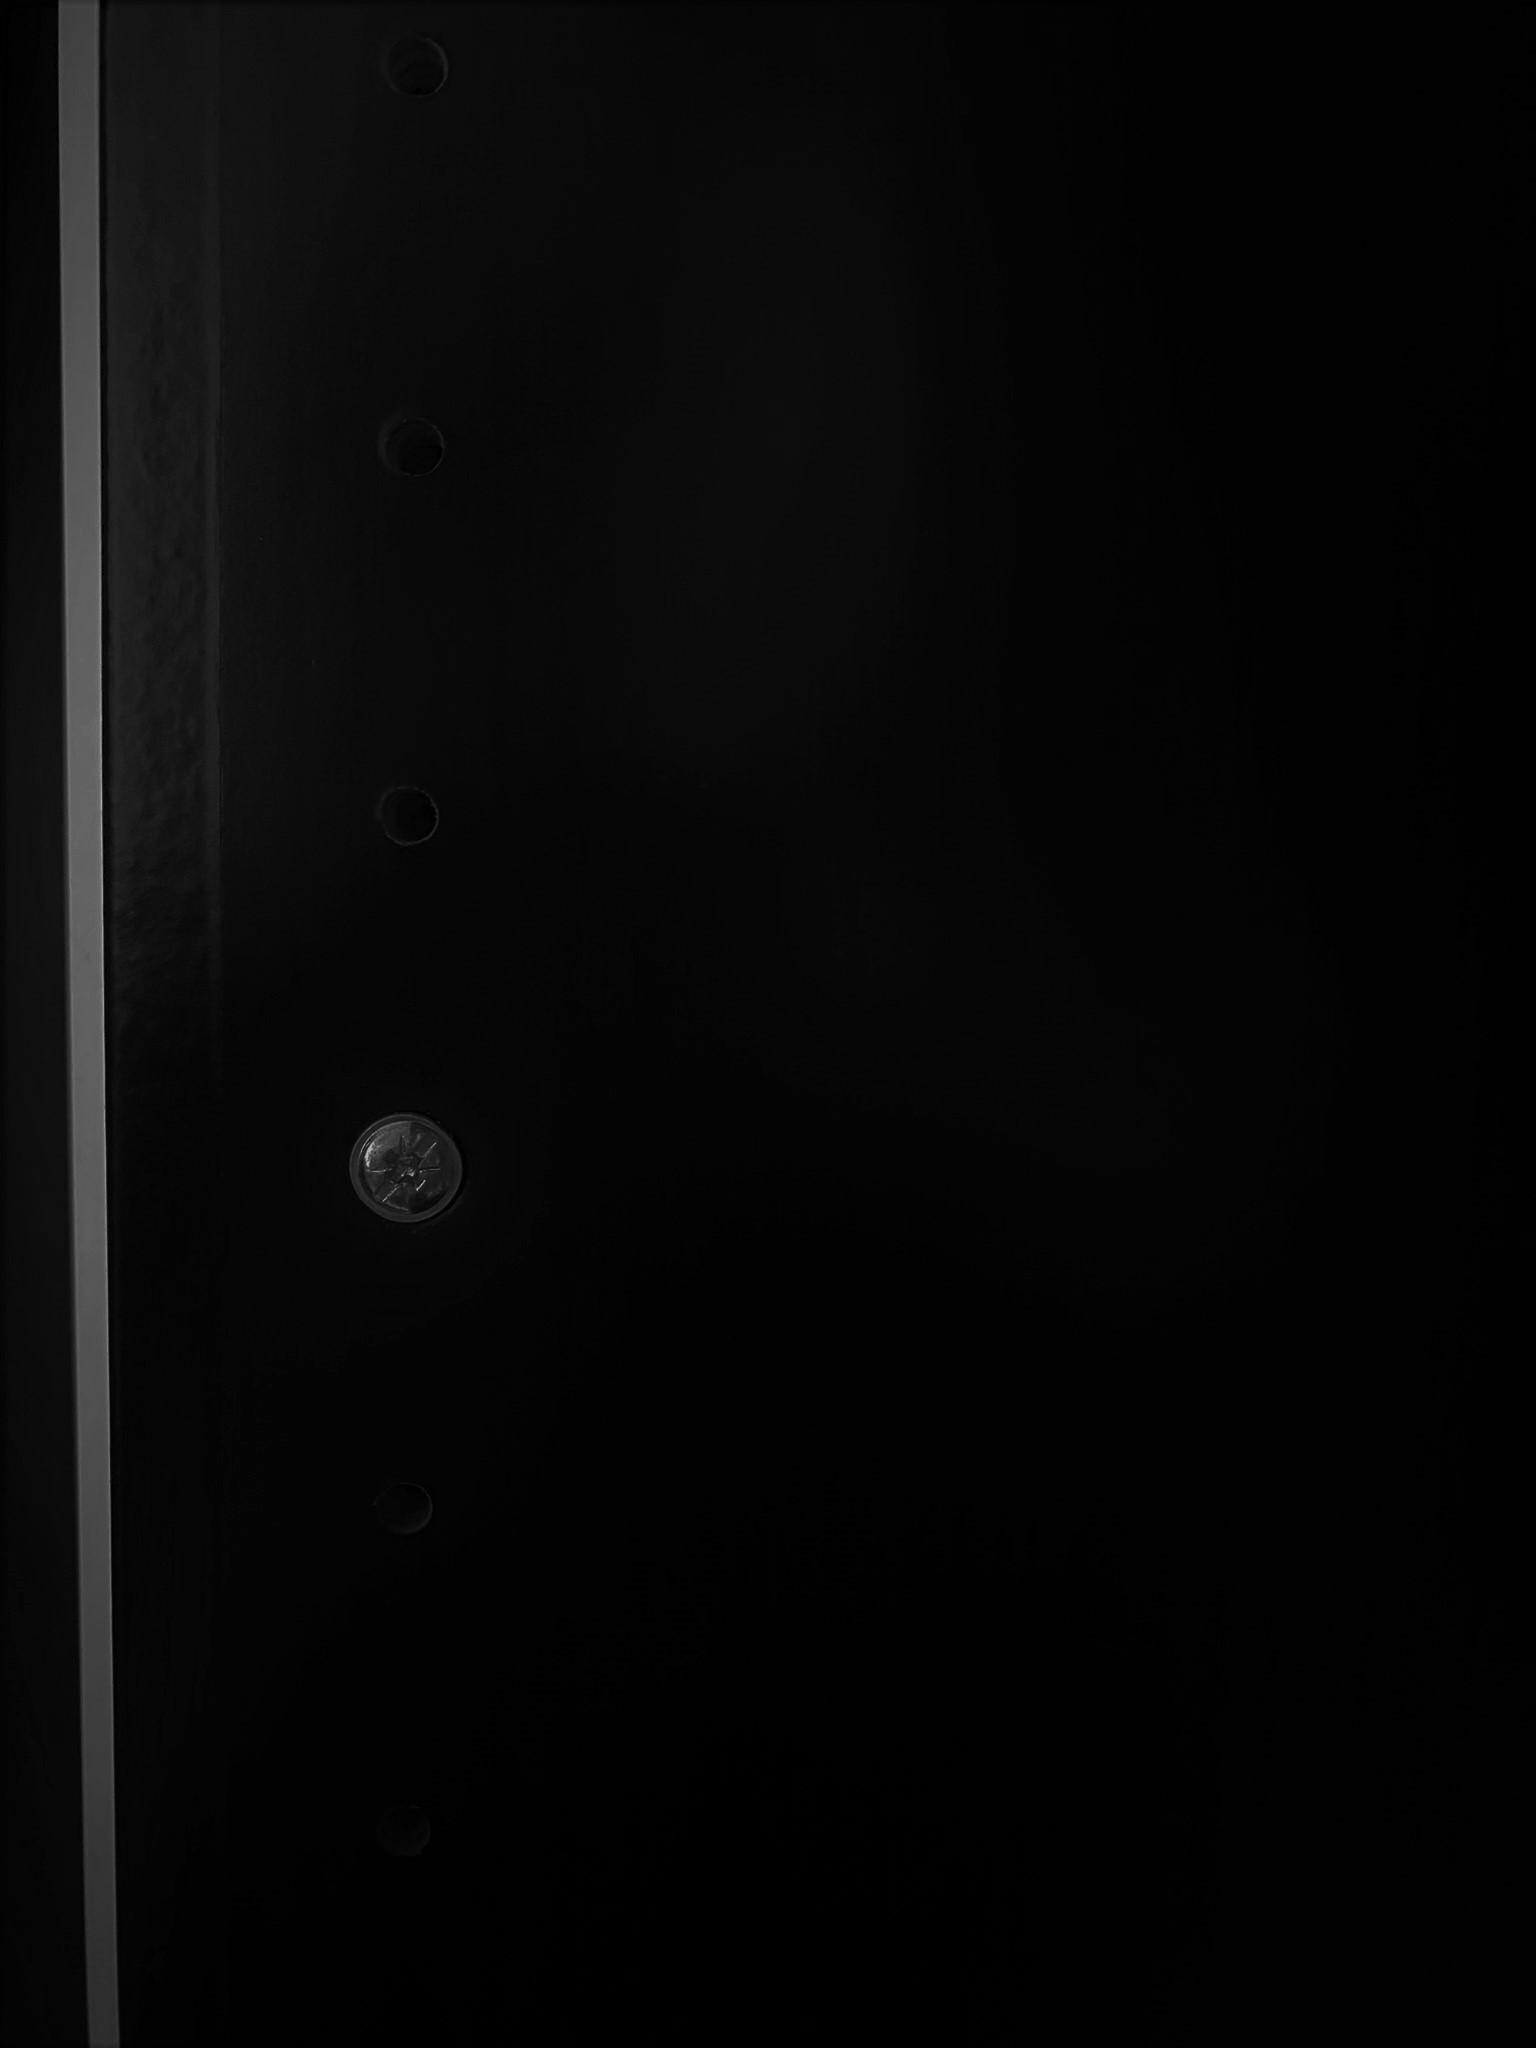PH: (344, 1108, 468, 1229)
